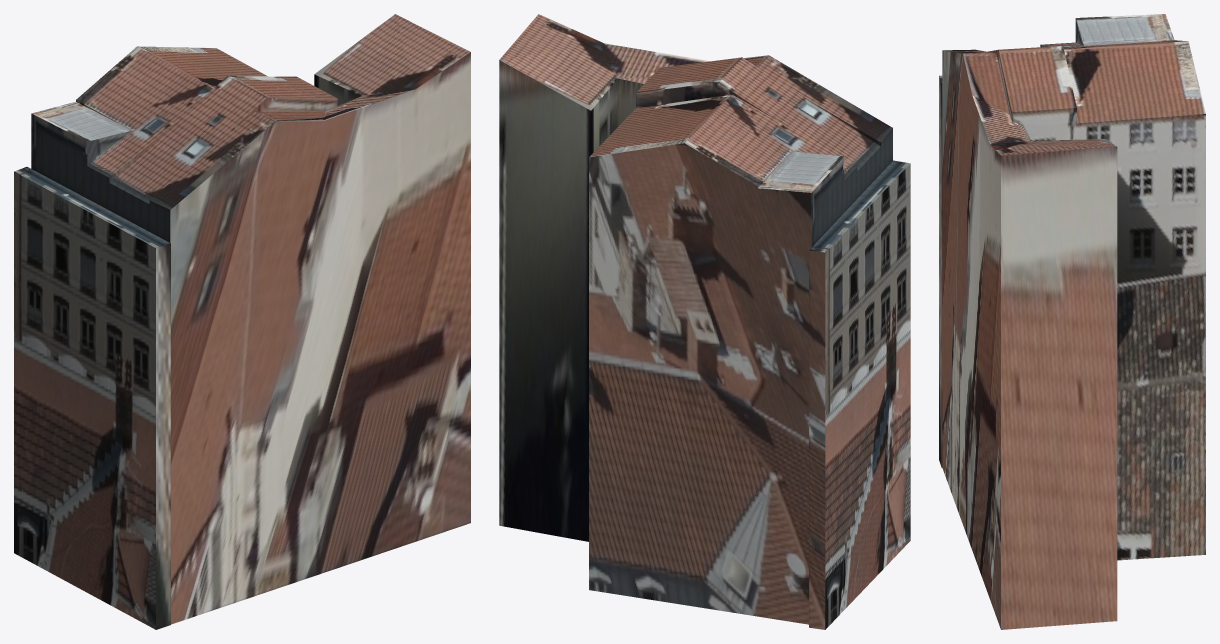
3 views of the same model, side by side, from view 1: azimuth 30°, elevation 25°; view 2: azimuth 150°, elevation 25°; view 3: azimuth 270°, elevation 25° (orthographic).
Visible parts, largest first — view 1: Z_UP; view 2: Z_UP; view 3: Z_UP.
Part boxes in pixels (left/top/right/bottom): Z_UP: left=14, top=14, right=470, bottom=629; Z_UP: left=499, top=14, right=910, bottom=629; Z_UP: left=939, top=14, right=1205, bottom=629.
Size of the model in its own units: 20.48 by 24.96 by 12.58.
Materials: 2 (1 with a texture image).
